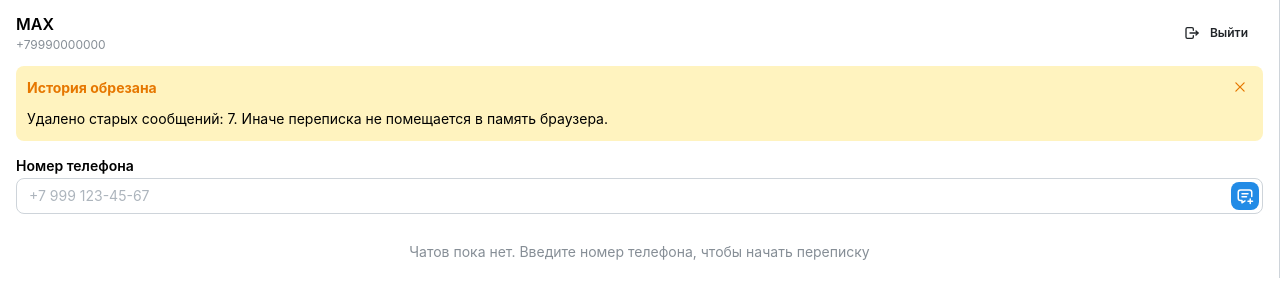
Sidebar › предупреждает об обрезке истории и позволяет скрыть предупреждение
The image size is (1280, 295).
Expected: the text "Удалено старых сообщений: 7" is shown, top-left (27, 110), bottom-right (608, 127)
Step 1. Click the button named "Скрыть" → (1242, 87), box top-left (1232, 77), bottom-right (1252, 97)
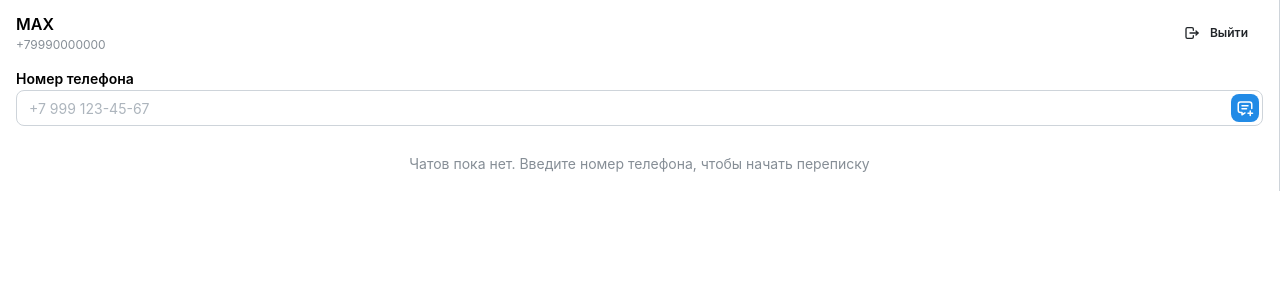
Expected: the text "История обрезана" is gone
